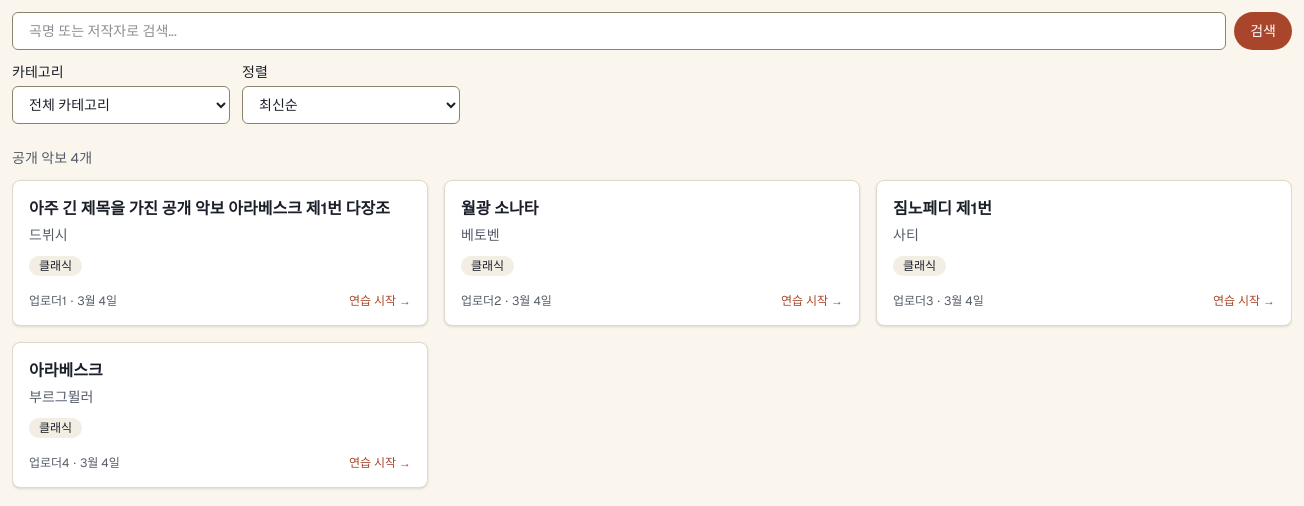
PublicSheetMusicBrowser › tells a narrowed search apart from an empty site and offers the way back
The width and height of the screenshot is (1304, 506).
Expected: the link "아주 긴 제목을 가진 공개 악보 아라베스크 제1번 다장조 드뷔시 클래식 업로더1 · 3월 4일 연습 시작 →" is shown, left=12, top=180, right=428, bottom=326
Type "없는 곡" into the search field labelled "곡명 또는 저작자로 검색" at (619, 31), box left=12, top=12, right=1226, bottom=50
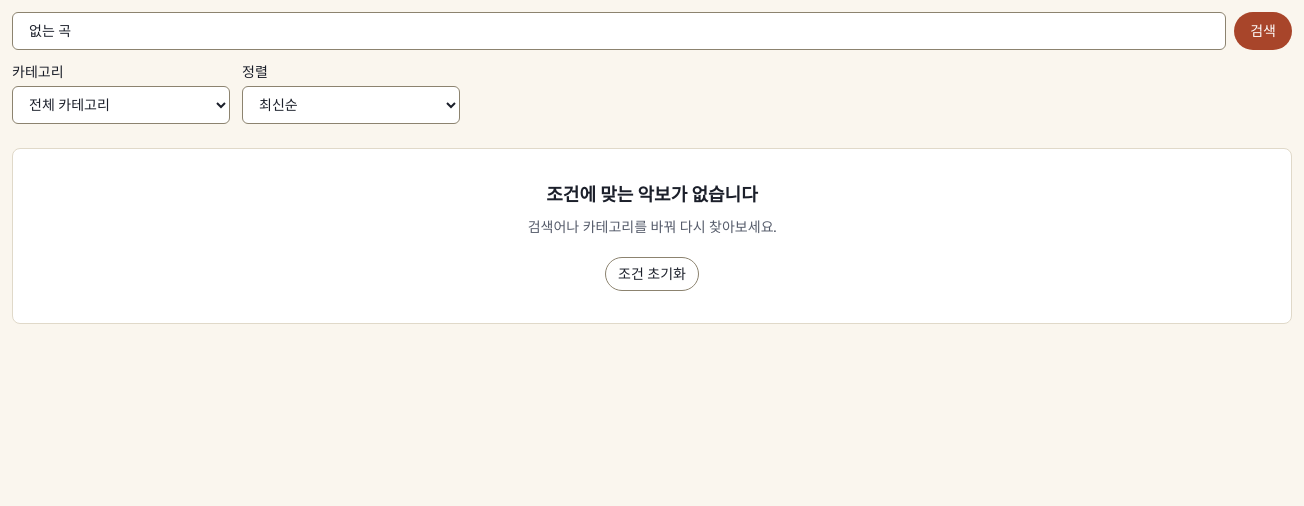
Expected: the heading "조건에 맞는 악보가 없습니다" is shown, left=546, top=183, right=758, bottom=206
Click the button "조건 초기화" at (652, 274), box left=605, top=257, right=699, bottom=291
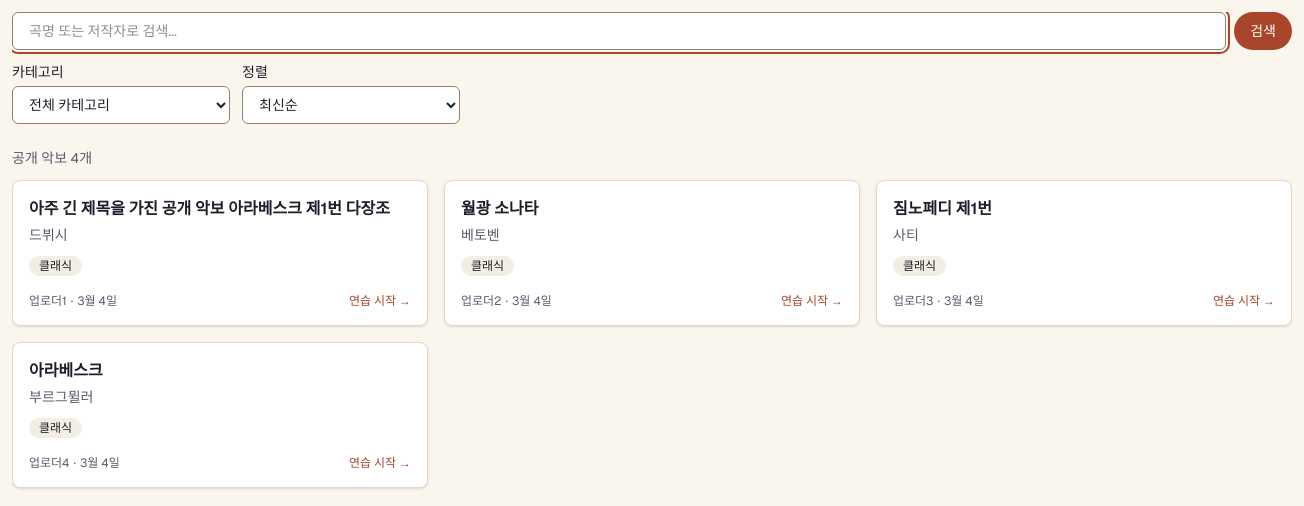
Expected: the link "아주 긴 제목을 가진 공개 악보 아라베스크 제1번 다장조 드뷔시 클래식 업로더1 · 3월 4일 연습 시작 →" is shown, left=12, top=180, right=428, bottom=326
Expected: the search field labelled "곡명 또는 저작자로 검색" is empty, left=12, top=12, right=1226, bottom=50
